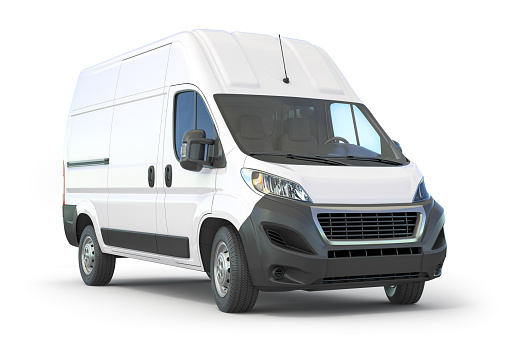van: (62, 29, 448, 313)
